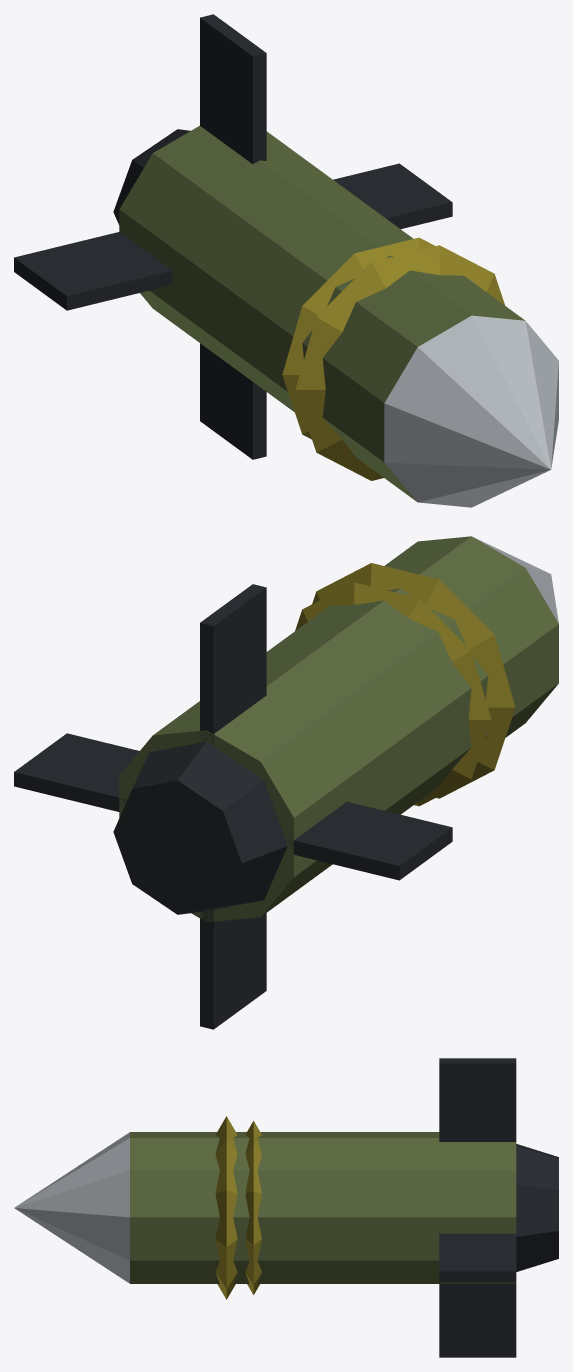
File: rocket-fragmentation.glb
The picture shows the model from 3 angles, top to bottom: view 1: azimuth 30°, elevation 25°; view 2: azimuth 150°, elevation 25°; view 3: azimuth 270°, elevation 25°; orthographic projection. The views are drawn at different scales.
Parts seen in each view (by area): view 1: m; view 2: m; view 3: m.
Boxes of the visible parts, x1=… form: m: x1=14, y1=14, x2=558, y2=507; m: x1=14, y1=536, x2=558, y2=1029; m: x1=14, y1=1058, x2=558, y2=1357.
Bounding box in the file's own units: 0.0968 × 0.0968 × 0.1625.
